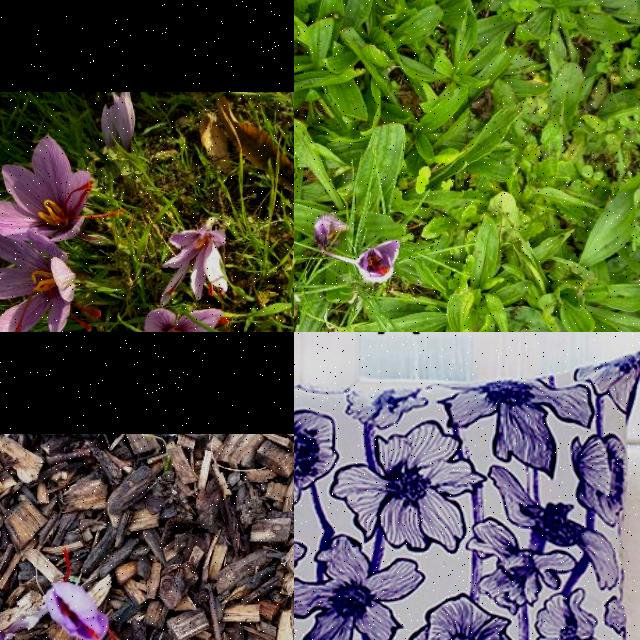flower: (0, 135, 116, 241), (0, 217, 101, 332), (45, 548, 130, 640), (161, 227, 229, 303), (122, 308, 230, 332), (101, 94, 135, 150), (356, 240, 399, 284)
